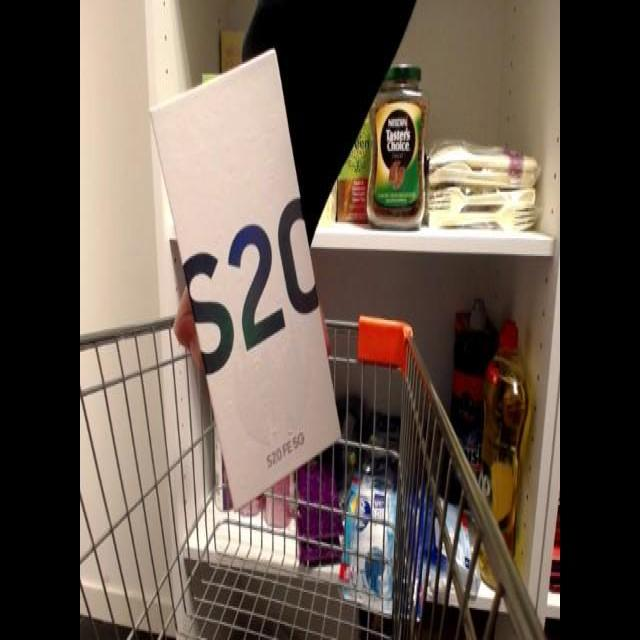Samsung S20: (148, 36, 354, 519)
